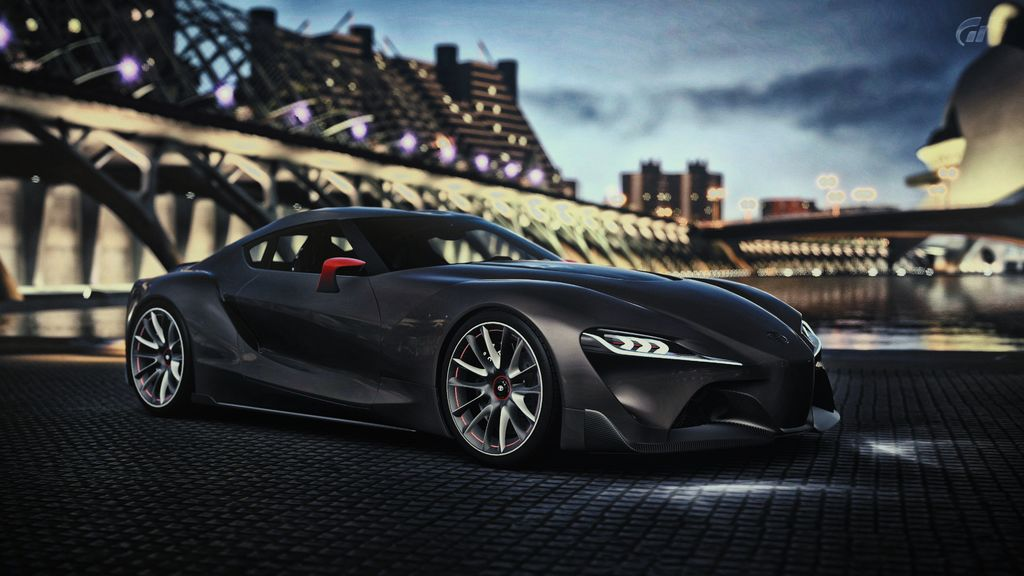car: (101, 190, 874, 484)
